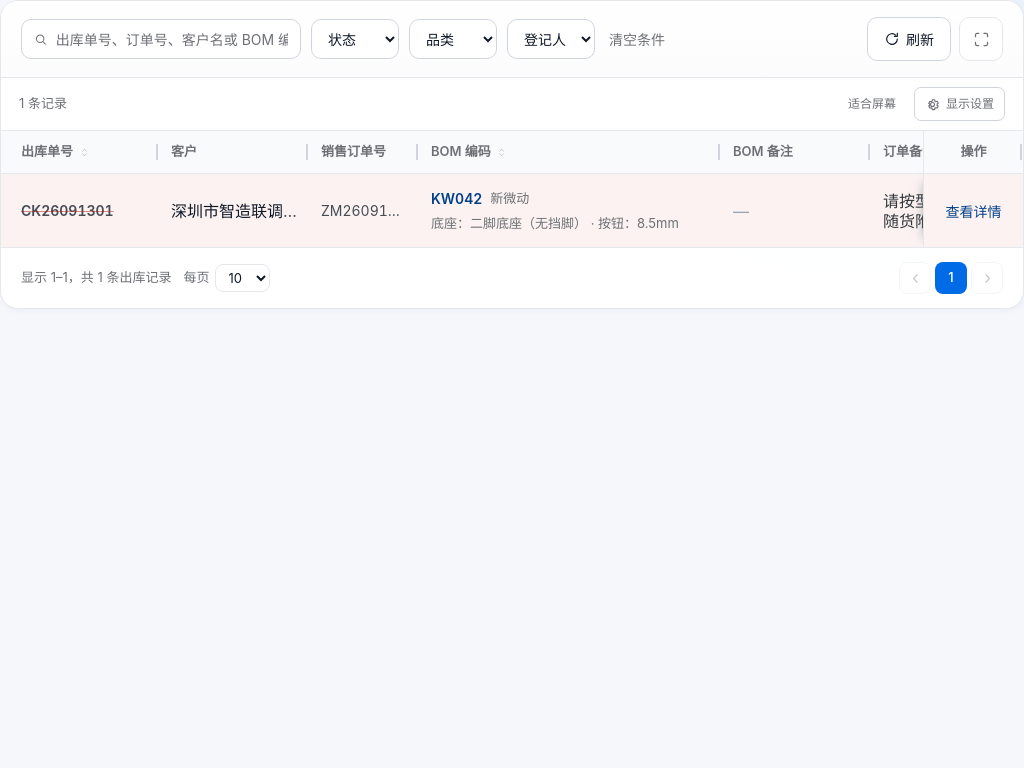
Test case: 已作废出库不再提供作废
Expected: the button "作废" is not shown
Click the button "查看详情" at (974, 211), box [946,200,1002,222]
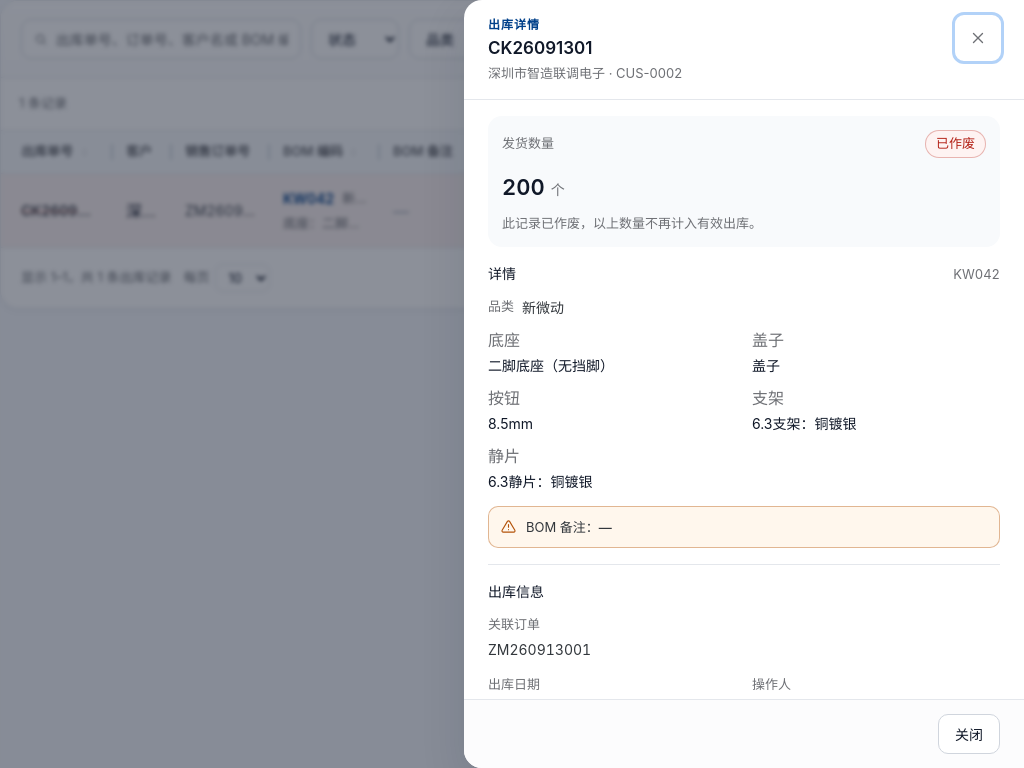
Now the element "详情" shows "BOM 备注：—", box [488,263,1000,548]
